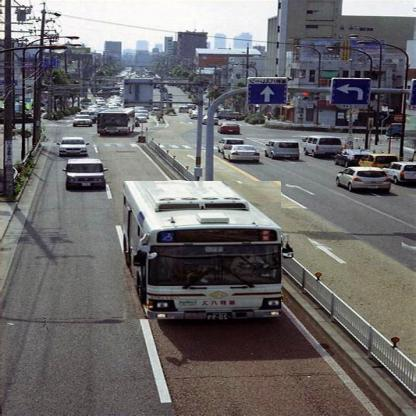bus: (124, 182, 282, 321)
